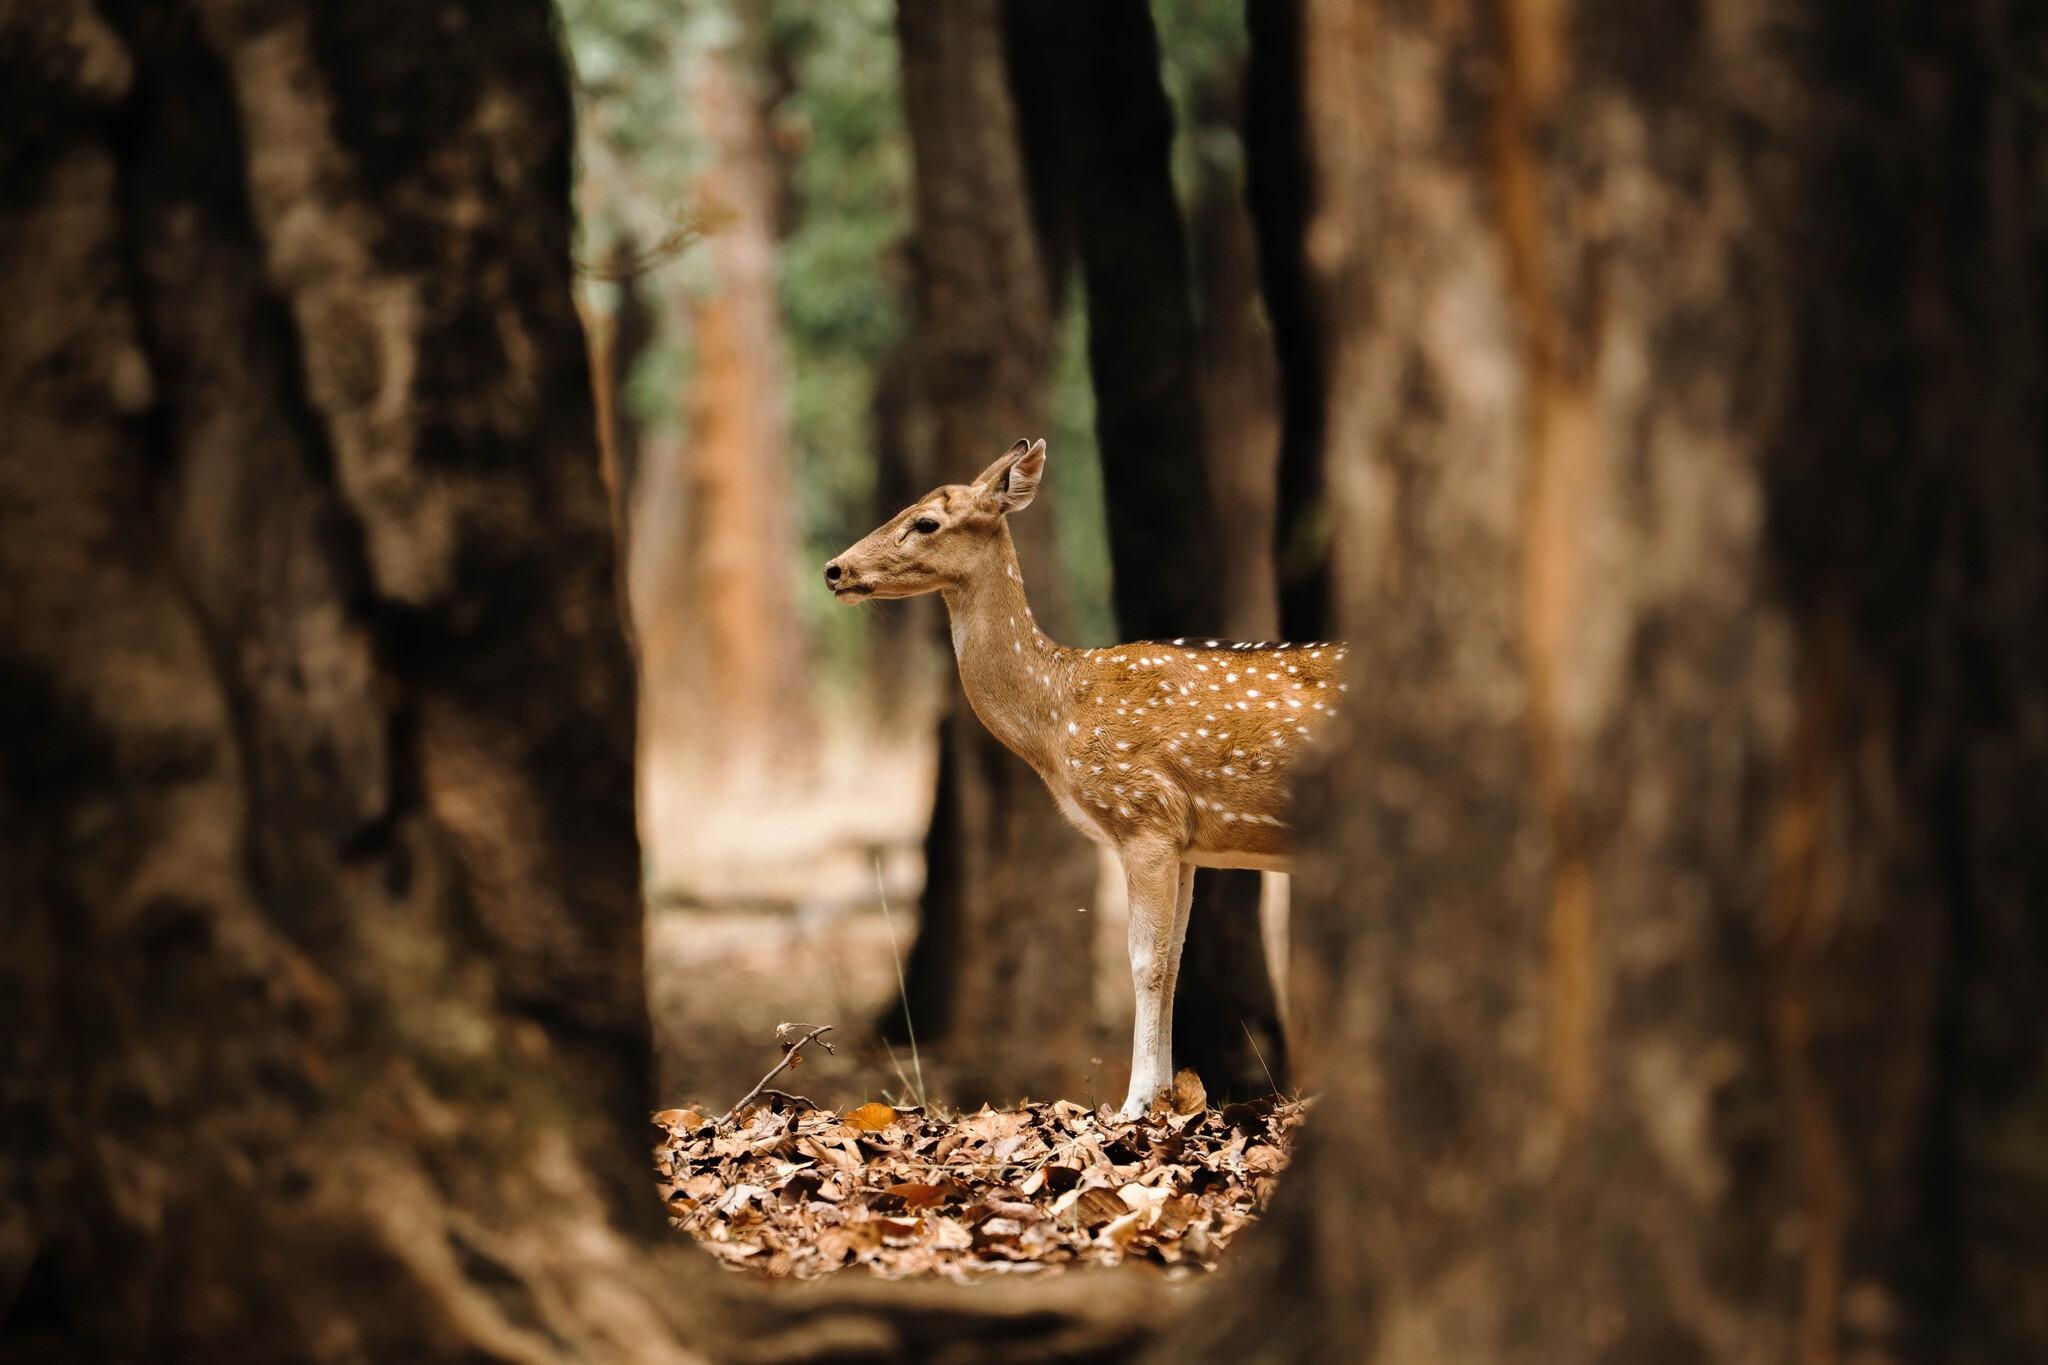Deer: (827, 440, 1343, 1117)
